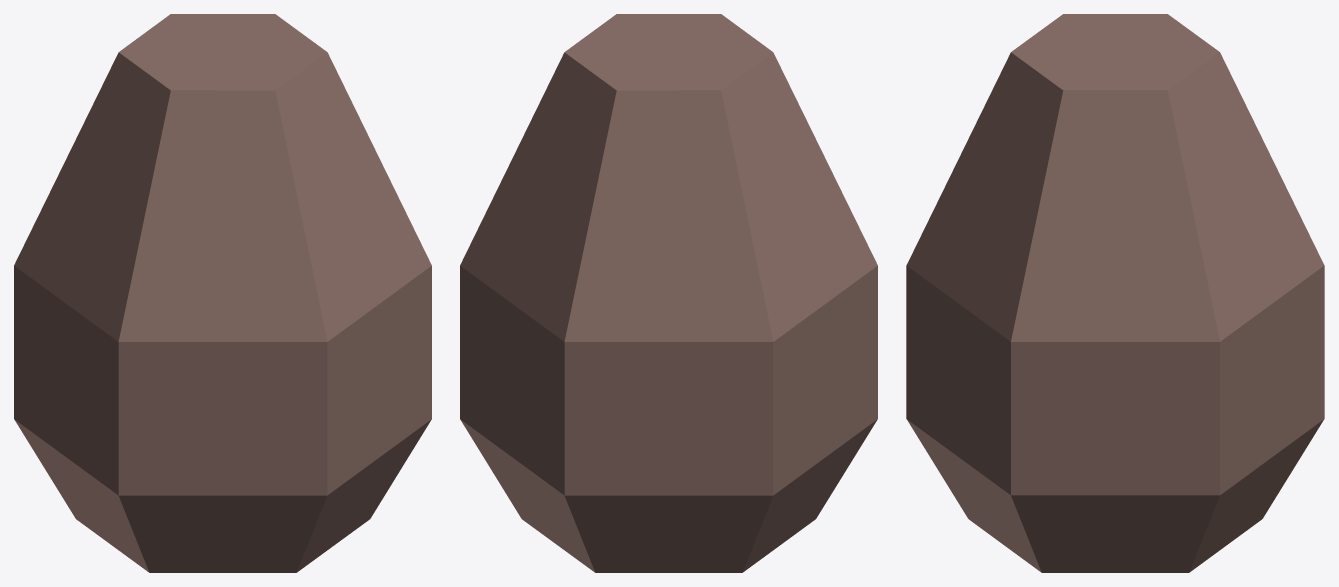
File: avocado.glb
3 renders of one model, left to right at view 1: azimuth 30°, elevation 25°; view 2: azimuth 150°, elevation 25°; view 3: azimuth 270°, elevation 25°, orthographic.
Parts seen in each view (by area): view 1: avocado; view 2: avocado; view 3: avocado.
Boxes of the visible parts, <box> form: avocado: <box>14,14,431,572</box>; avocado: <box>460,14,877,572</box>; avocado: <box>906,14,1324,572</box>.
Size of the model in its own units: 0.1501 by 0.2137 by 0.1734.
